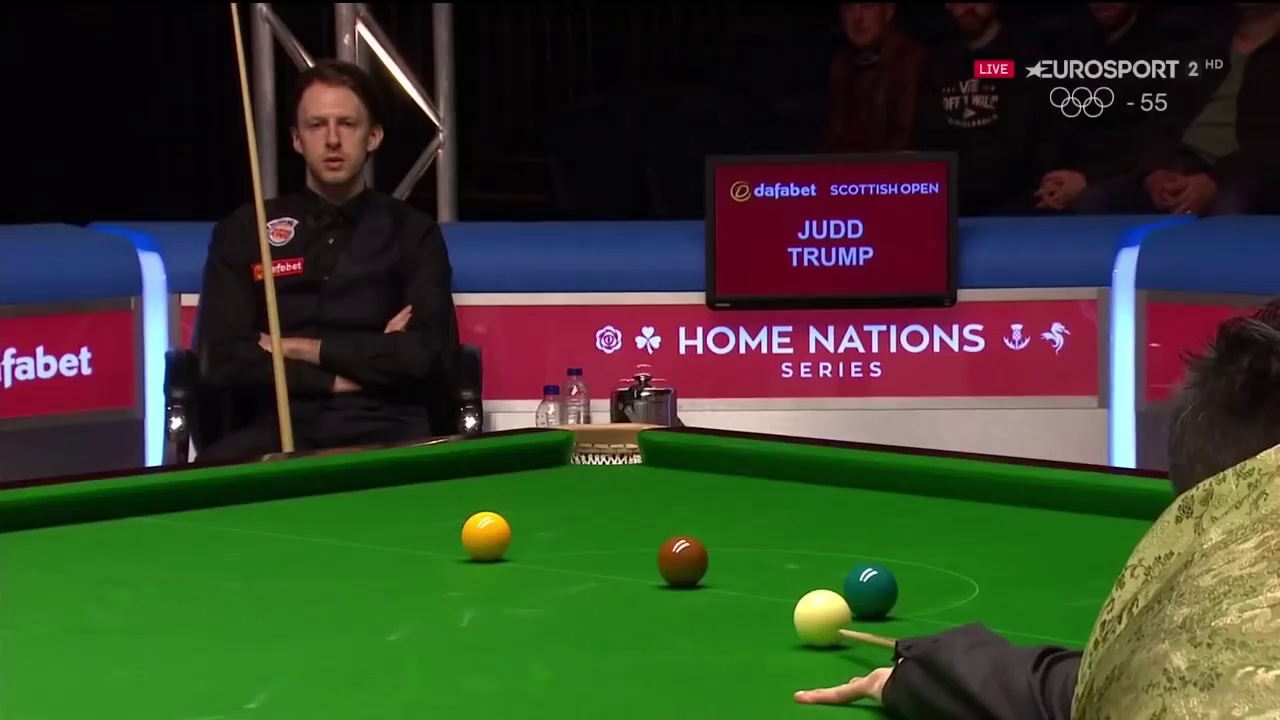ball: (458, 504, 514, 564), (846, 558, 900, 618), (658, 531, 707, 589)
